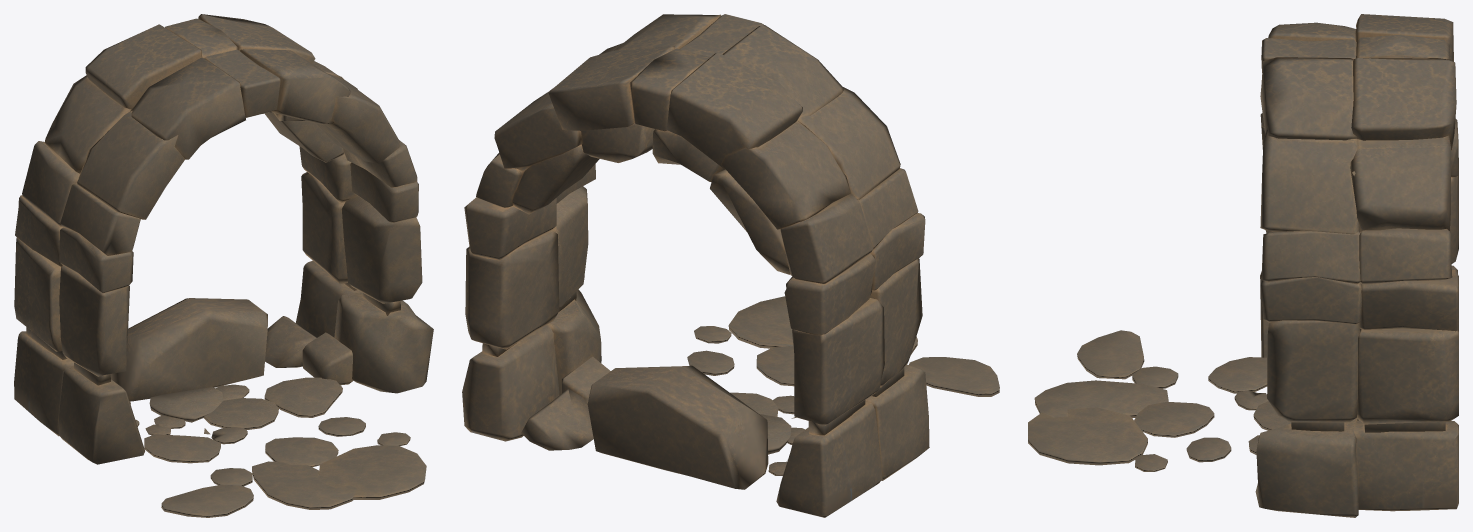
File: rock-arch.glb
3 renders of one model, left to right at view 1: azimuth 30°, elevation 25°; view 2: azimuth 150°, elevation 25°; view 3: azimuth 270°, elevation 25°, orthographic. The views are drawn at different scales.
Size of the model in its own units: 1 by 0.9954 by 1.
Materials: 1 (1 with a texture image).
